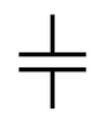Capacitor: (14, 43, 87, 76)
